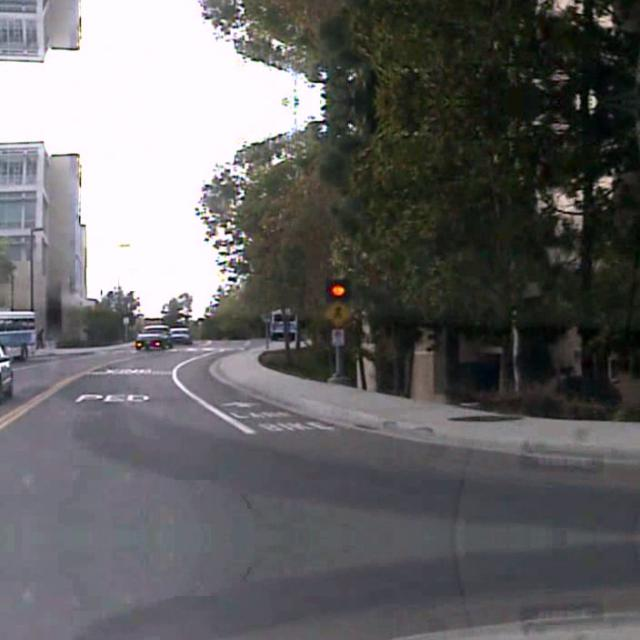pedestrianCrossing: (323, 298, 353, 326)
